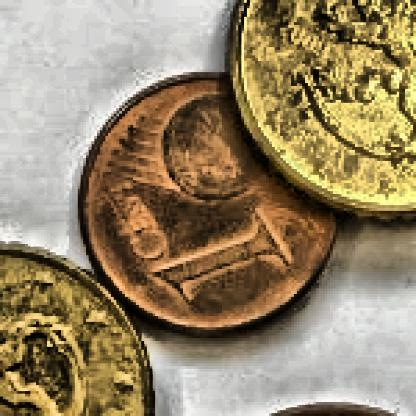coin: (76, 70, 353, 331)
